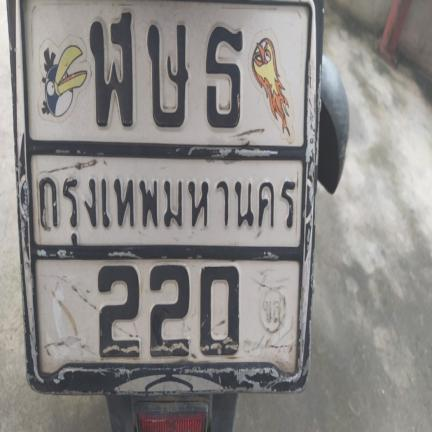0: (196, 258, 244, 364)
2: (144, 261, 193, 362), (94, 262, 142, 363)
A24: (196, 12, 246, 135)
A39: (142, 11, 190, 129)
A42: (86, 7, 136, 131)
BKK: (31, 150, 300, 251)
